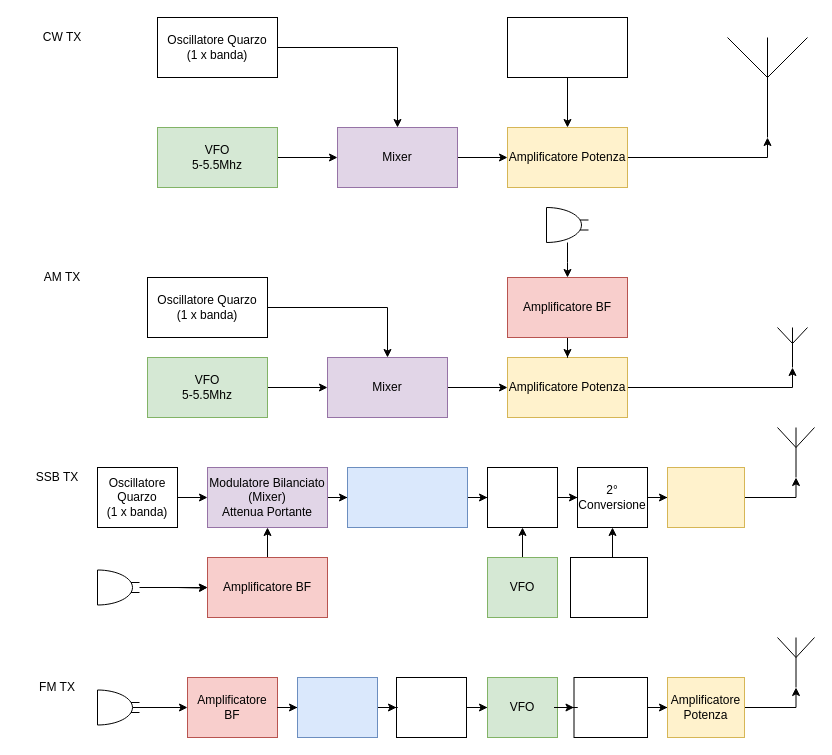
The diagram is 832 pixels wide and 755 high, and some of its shapes have lost their labels. The box of each missing label's shape, as (x1, y1, x2, y2) in pixels:
1° Conversione: (486, 466, 558, 528)
Amplificatore Lineare: (666, 466, 744, 528)
Filtro (molto stretto per eliminare sideband): (346, 466, 468, 528)
Filtro Elimina Banda (pre enfasi): (296, 676, 378, 738)
Modulatore a Reattanza (varicap): (396, 676, 466, 738)
Moltiplicatore: (573, 676, 648, 738)
Oscillatore Quarzo: (570, 556, 648, 618)
tasto: (506, 16, 628, 78)
